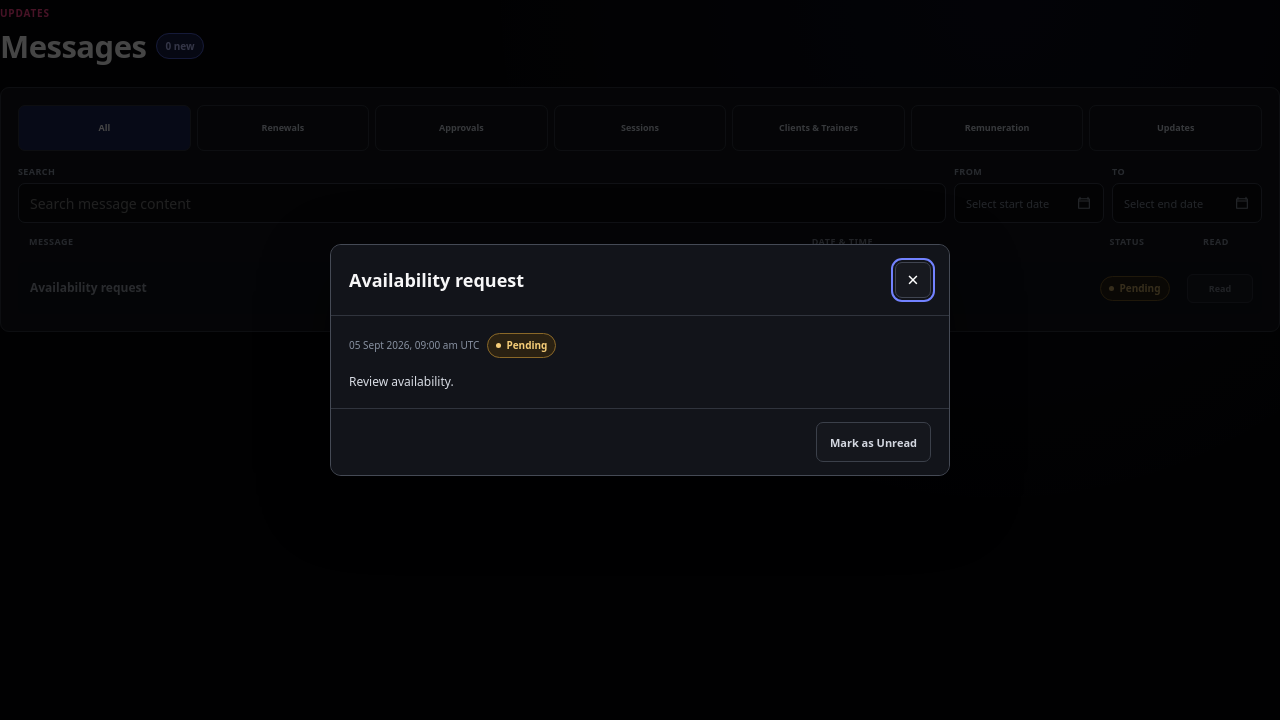
Scenario: keeps the popup open with a retryable error when marking unread fails
Click the button "Mark as Unread" at x=873, y=442, box x1=816 y1=422 x2=931 y2=462
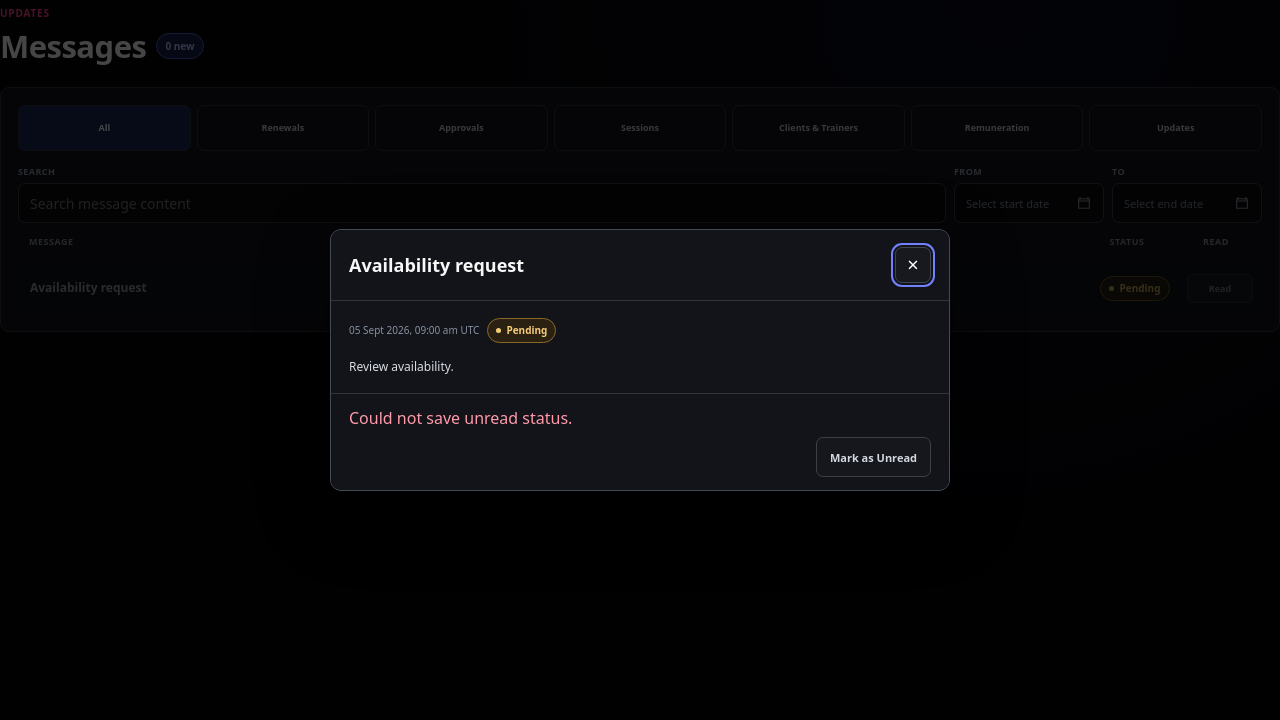
Expected: the dialog is shown, x1=330 y1=229 x2=950 y2=491
Result: the message reads "Could not save unread status." at x1=349 y1=407 x2=572 y2=429
